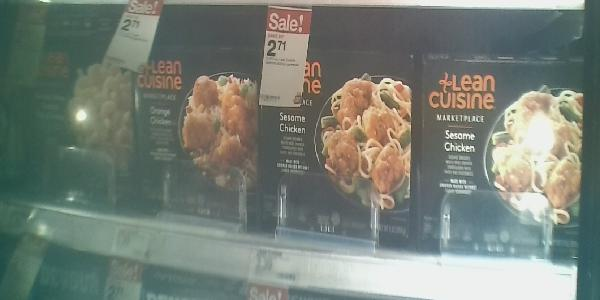pizza1: (420, 50, 583, 260), (265, 39, 417, 247), (2, 1, 138, 212), (137, 37, 265, 228)
